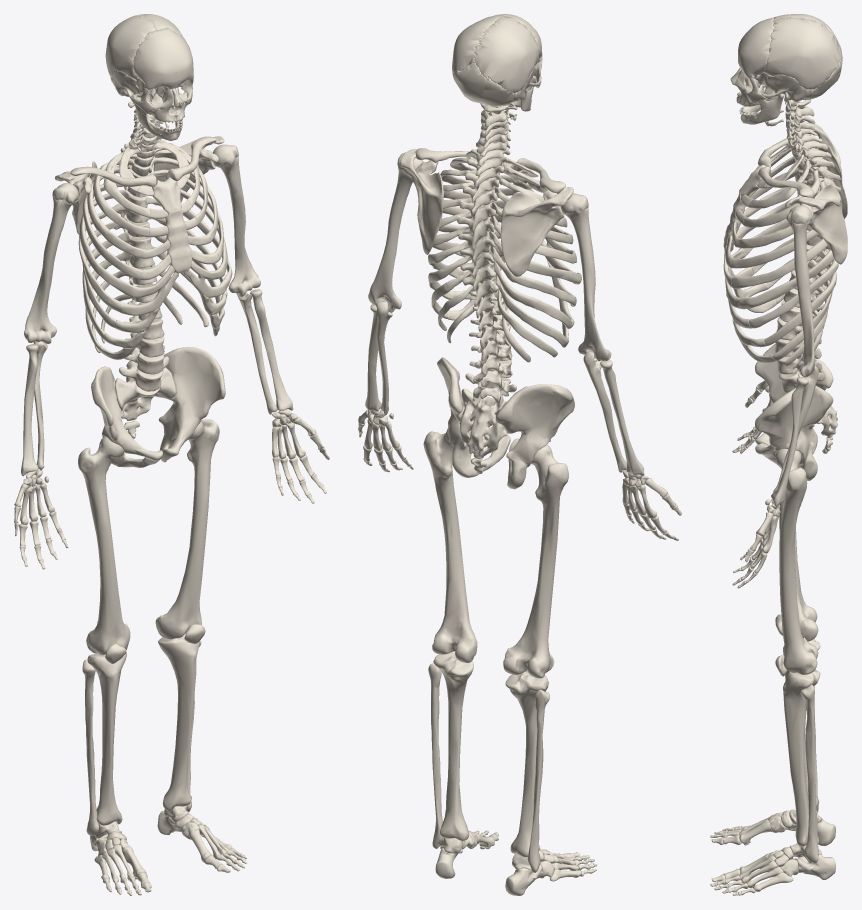
The model's file is bones.glb.
3 views of the same model, side by side, from view 1: azimuth 30°, elevation 25°; view 2: azimuth 150°, elevation 25°; view 3: azimuth 270°, elevation 25° (orthographic). The views are drawn at different scales.
Visible parts, largest first — view 1: bone__ribs, bone__femur, bone__cranium, bone__pelvis, bone__spine, bone__tibia, bone__humerus, bone__hand, bone__foot, bone__radius, bone__sternum, bone__ulna (+4 smaller); view 2: bone__ribs, bone__spine, bone__femur, bone__cranium, bone__pelvis, bone__tibia, bone__scapula, bone__humerus, bone__hand, bone__fibula, bone__ulna, bone__radius (+3 smaller); view 3: bone__ribs, bone__cranium, bone__femur, bone__spine, bone__pelvis, bone__foot, bone__tibia, bone__scapula, bone__humerus, bone__hand, bone__fibula, bone__radius (+6 smaller).
Part boxes in pixels (x1=…): bone__ribs: x1=78, y1=139, x2=232, y2=359; bone__femur: x1=78, y1=419, x2=219, y2=655; bone__cranium: x1=105, y1=14, x2=193, y2=123; bone__pelvis: x1=91, y1=347, x2=225, y2=467; bone__spine: x1=114, y1=97, x2=175, y2=438; bone__tibia: x1=87, y1=632, x2=200, y2=825; bone__humerus: x1=24, y1=144, x2=260, y2=344; bone__hand: x1=14, y1=410, x2=329, y2=569; bone__foot: x1=94, y1=813, x2=247, y2=895; bone__radius: x1=21, y1=289, x2=293, y2=476; bone__sternum: x1=152, y1=177, x2=192, y2=273; bone__ulna: x1=33, y1=292, x2=277, y2=470; bone__ribs: x1=428, y1=151, x2=581, y2=362; bone__spine: x1=457, y1=102, x2=517, y2=473; bone__femur: x1=423, y1=428, x2=568, y2=678; bone__cranium: x1=452, y1=14, x2=542, y2=106; bone__pelvis: x1=437, y1=357, x2=574, y2=489; bone__tibia: x1=433, y1=652, x2=548, y2=857; bone__scapula: x1=400, y1=149, x2=573, y2=276; bone__humerus: x1=368, y1=152, x2=611, y2=361; bone__hand: x1=358, y1=409, x2=681, y2=540; bone__fibula: x1=428, y1=663, x2=549, y2=872; bone__ulna: x1=376, y1=301, x2=626, y2=472; bone__radius: x1=365, y1=304, x2=644, y2=475; bone__ribs: x1=723, y1=144, x2=838, y2=365; bone__cranium: x1=730, y1=14, x2=842, y2=106; bone__femur: x1=775, y1=448, x2=818, y2=674; bone__spine: x1=775, y1=99, x2=841, y2=453; bone__pelvis: x1=755, y1=343, x2=833, y2=480; bone__foot: x1=710, y1=810, x2=798, y2=895; bone__tibia: x1=783, y1=638, x2=820, y2=846; bone__scapula: x1=785, y1=122, x2=847, y2=264; bone__humerus: x1=786, y1=135, x2=815, y2=377; bone__hand: x1=732, y1=380, x2=780, y2=588; bone__fibula: x1=800, y1=684, x2=818, y2=863; bone__radius: x1=771, y1=377, x2=808, y2=506.
Size of the model in its own units: 0.6232 by 1.58 by 0.2329.
